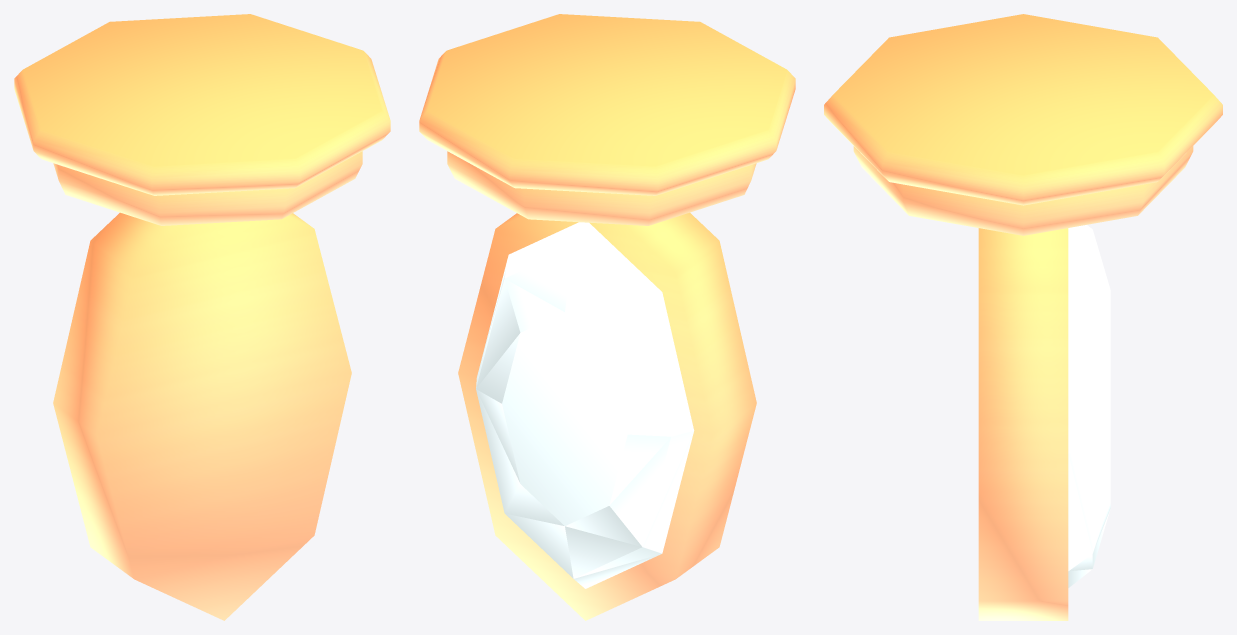
Rendered from wood_pommel_207_004.glb.
3 views of the same model, side by side, from view 1: azimuth 30°, elevation 25°; view 2: azimuth 150°, elevation 25°; view 3: azimuth 270°, elevation 25° (orthographic). The views are drawn at different scales.
Parts seen in each view (by area): view 1: wood_pommel_207.004; view 2: wood_pommel_207.004; view 3: wood_pommel_207.004.
Boxes of the visible parts, box(x1,y1,x2,y2) form: wood_pommel_207.004: box(14, 14, 390, 620); wood_pommel_207.004: box(419, 14, 795, 620); wood_pommel_207.004: box(824, 14, 1222, 620).
Size of the model in its own units: 2.26 by 3.29 by 2.26.
Materials: 1 (1 with a texture image).
